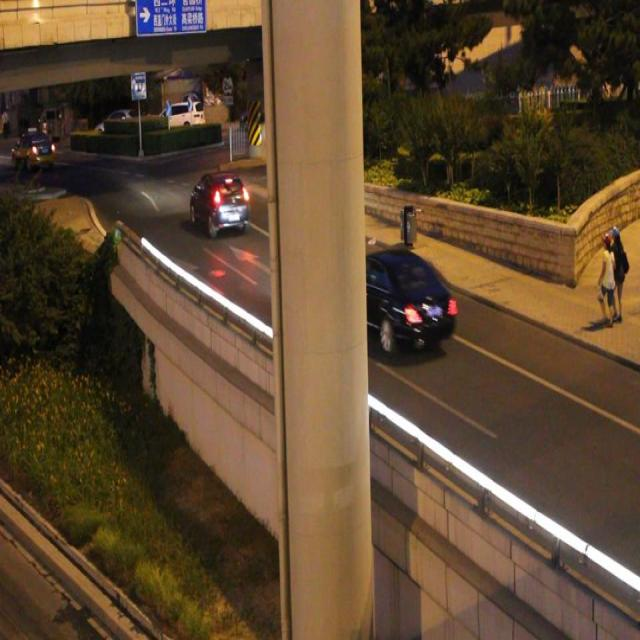car: (322, 247, 455, 352), (189, 168, 250, 235)
